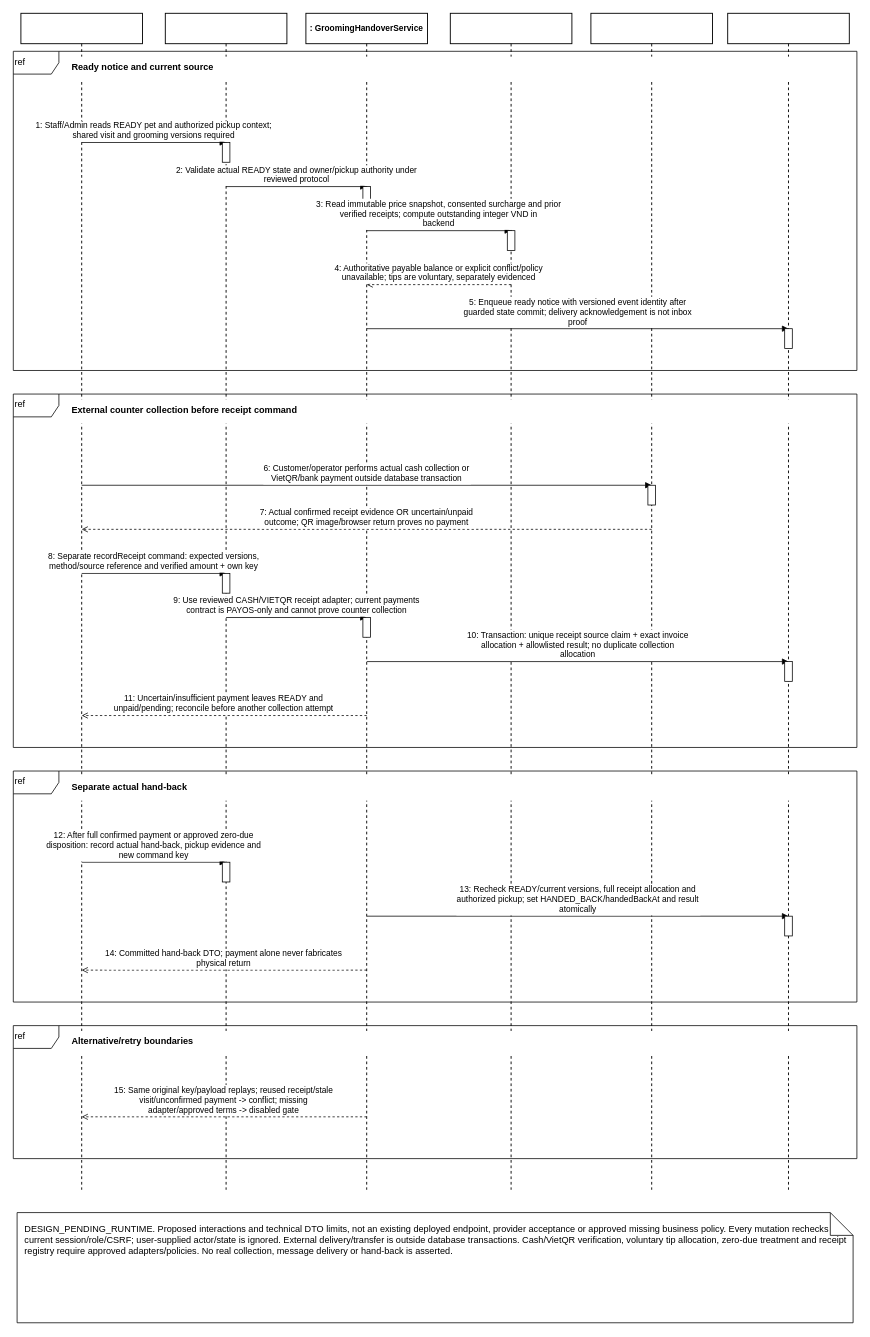
Some shapes in this 870 by 1337 pixel diagram are drawn without their labels. The shapes that lost their labels are listed below. From the top down, each one's box as (x1, y1, x2, y2) in pixels, then its label:
(20, 12, 143, 1190): Staff / Admin
(164, 12, 287, 1190): : Proposed ShopBoundary
(449, 12, 572, 1190): : Visit / price / receipt source
(590, 12, 713, 1190): : Actual cash / VietQR evidence
(727, 12, 849, 1190): : MongoDB / Outbox / Command
